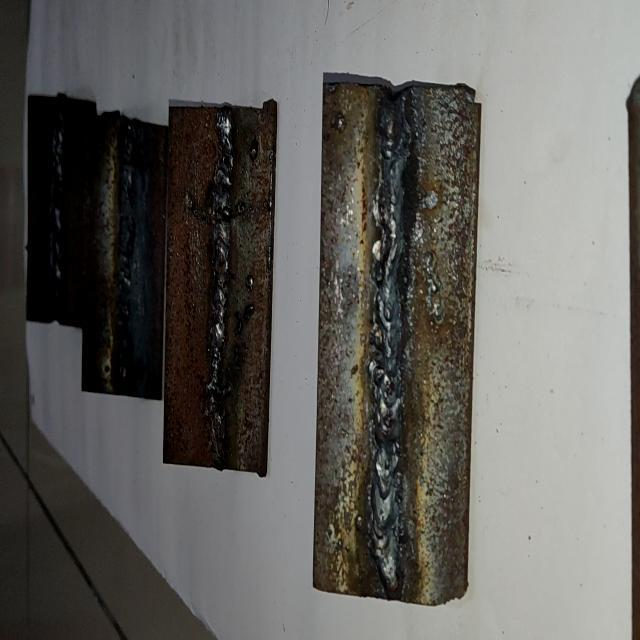Defect: (118, 128, 137, 384)
Welding Line: (368, 89, 413, 592), (207, 114, 233, 456), (115, 128, 136, 384), (49, 109, 65, 318)
Workpiece: (309, 70, 484, 608), (162, 94, 281, 474), (80, 114, 170, 396), (24, 100, 96, 327)
